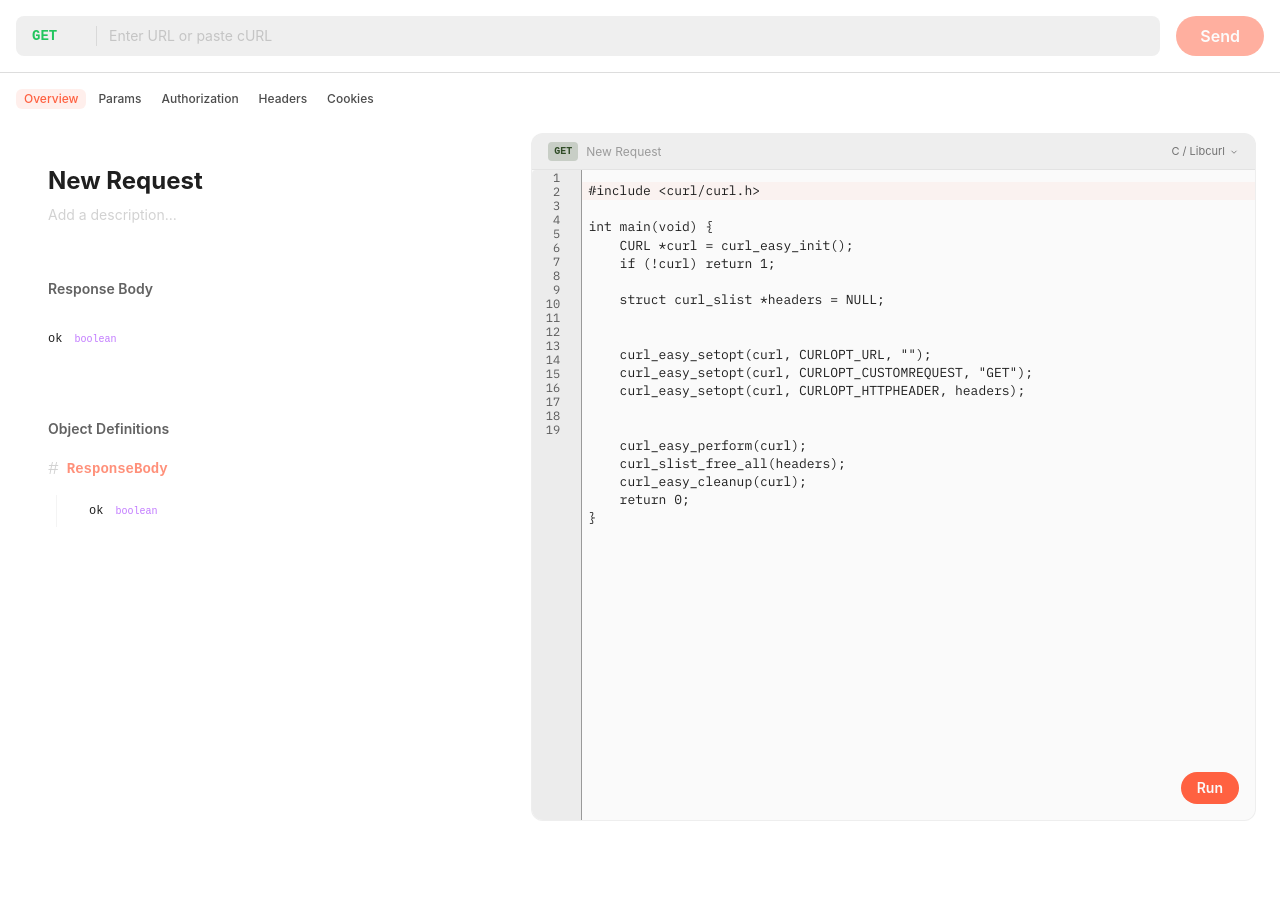
REST response view › renders a completed chunked application/json response in its appropriate view
The width and height of the screenshot is (1280, 900).
Click the button "Headers". click: {"x": 283, "y": 99}
box: left=251, top=89, right=315, bottom=109
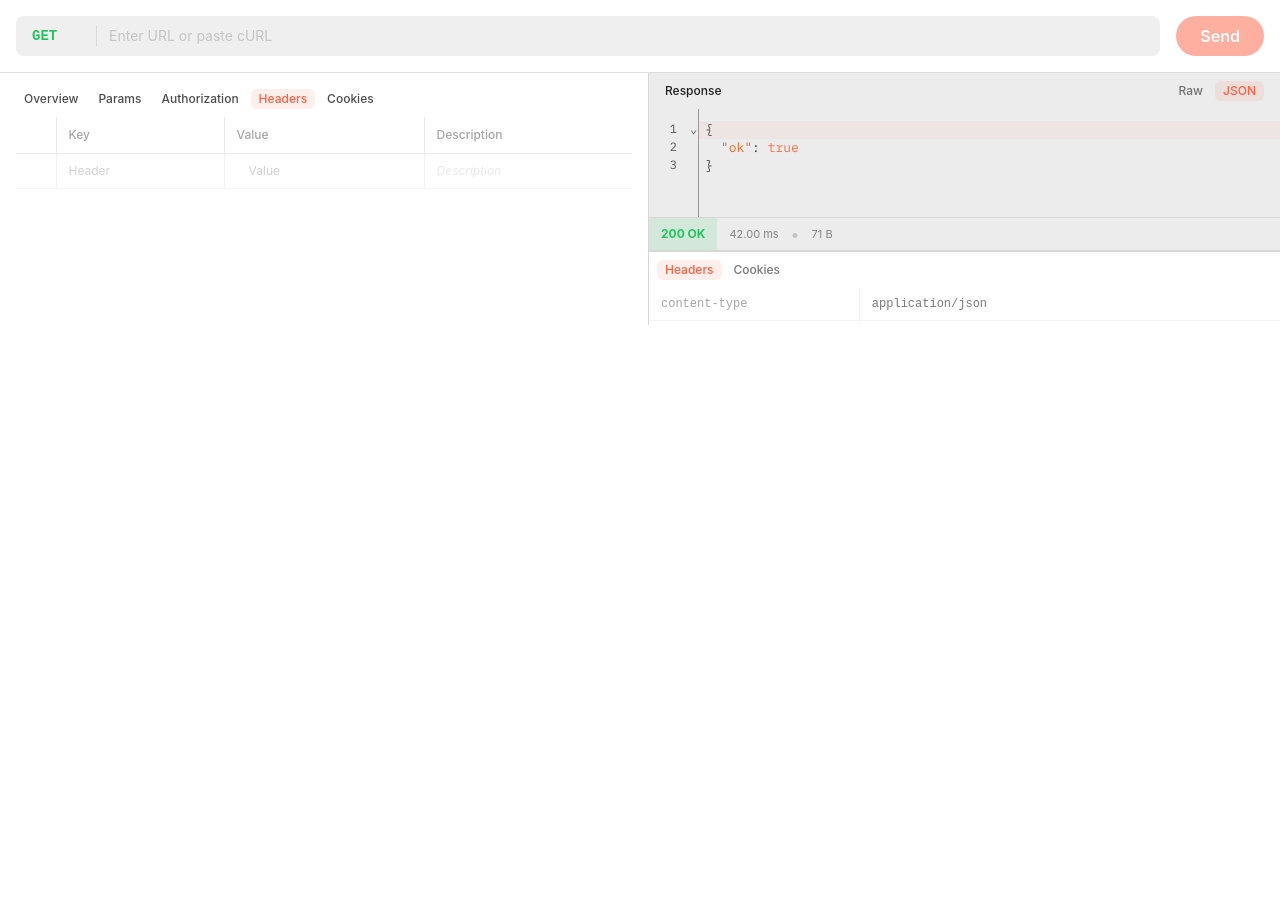
Now the button "JSON" is shown, box left=1215, top=81, right=1264, bottom=101
Click the button "Raw". click: {"x": 1191, "y": 91}
box: left=1171, top=81, right=1211, bottom=101
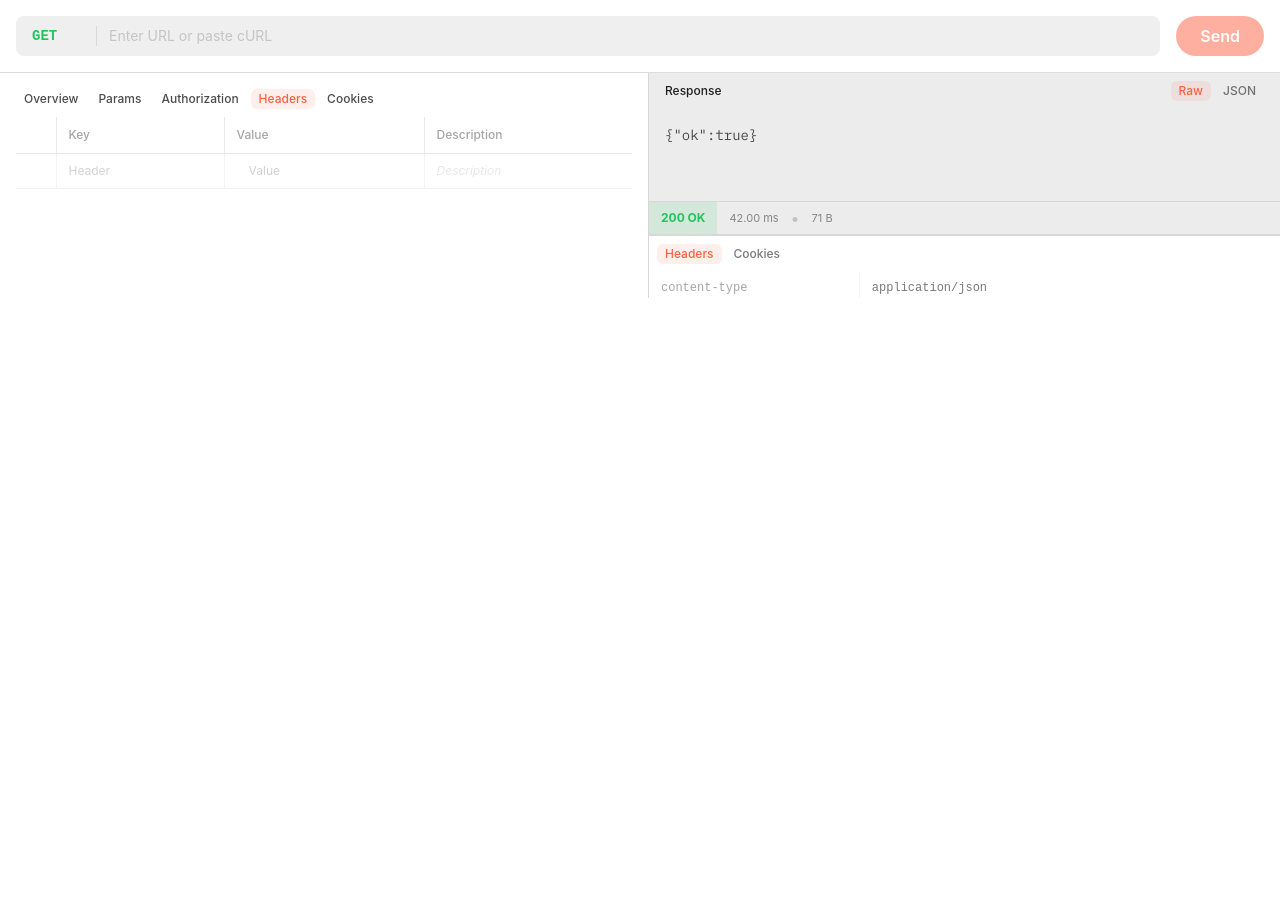
Now the text "{\"ok\":true}" is shown, box left=665, top=126, right=757, bottom=144
